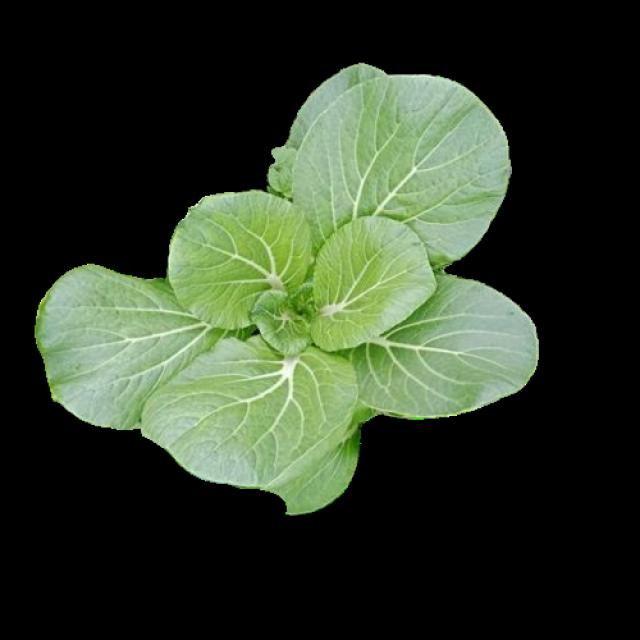healthy: (36, 64, 535, 509)
mature: (39, 67, 538, 512)
